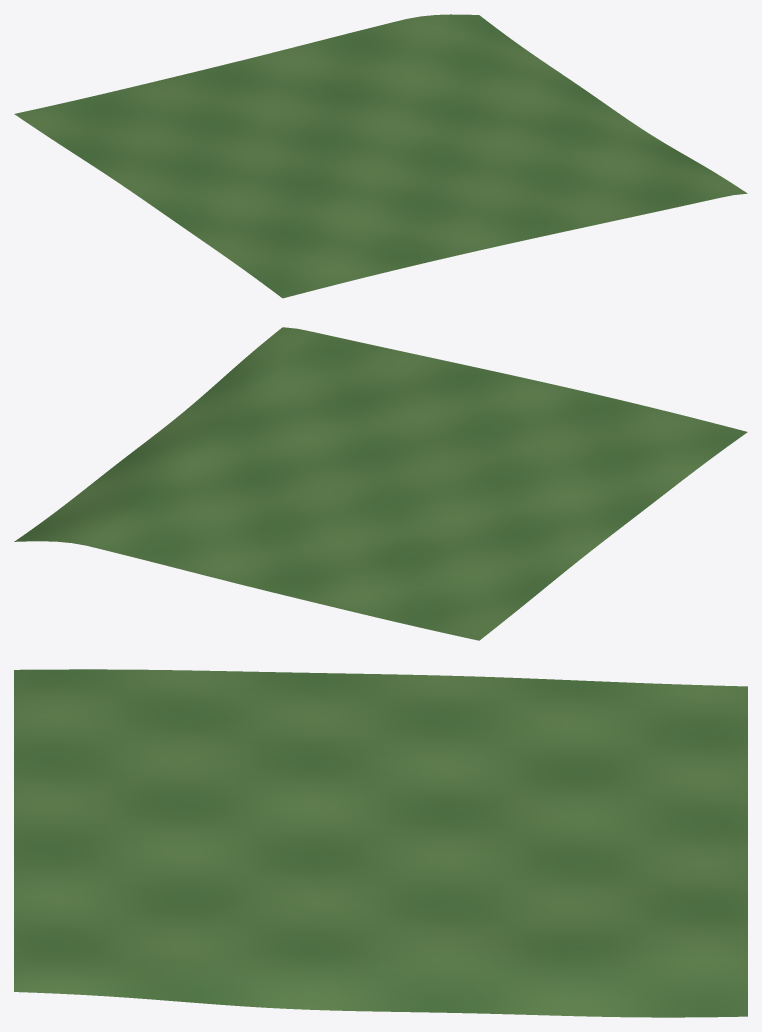
Rendered from chunk_4_9.glb.
3 renders of one model, top to bottom at view 1: azimuth 30°, elevation 25°; view 2: azimuth 150°, elevation 25°; view 3: azimuth 270°, elevation 25°, orthographic. The views are drawn at different scales.
Bounding box in the file's own units: 512 × 30.83 × 512.
